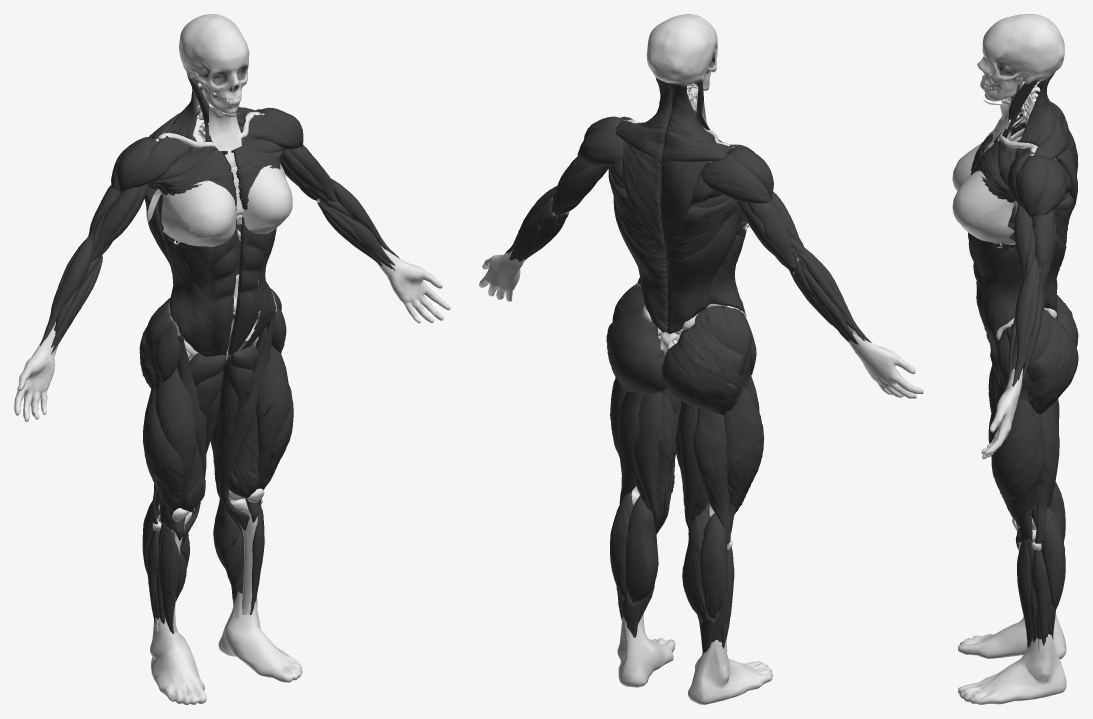
Rendered from corpo-f-1.glb.
The picture shows the model from 3 angles, left to right: view 1: azimuth 30°, elevation 25°; view 2: azimuth 150°, elevation 25°; view 3: azimuth 270°, elevation 25°; orthographic projection.
Parts seen in each view (by area): view 1: pele, deco, quad_reto_femoral, obliquos, mama_peito_medial, osso, adutores, quad_vasto_lateral, peito_medial, antebraco_flexores, abdomen_supra, ombro_frontal (+15 smaller); view 2: pele, gluteo_maximo, panturrilha_gastro, isquio_semitendineo, dorsal_inferior, trapezio_inferior, isquio_biceps_femoral, osso, dorsal_superior, quad_vasto_lateral, ombro_posterior, antebraco_extensores (+11 smaller); view 3: pele, osso, quad_vasto_lateral, deco, obliquos, gluteo_maximo, mama_peito_medial, panturrilha_gastro, isquio_biceps_femoral, ombro_lateral, mama_peito_inferior, trapezio_superior (+22 smaller).
Part boxes in pixels (x1,y1,x2,y2): pele: [14, 107, 450, 704]; deco: [147, 74, 275, 633]; quad_reto_femoral: [155, 326, 289, 540]; obliquos: [163, 228, 276, 356]; mama_peito_medial: [168, 165, 292, 238]; osso: [179, 14, 249, 114]; adutores: [183, 340, 259, 545]; quad_vasto_lateral: [143, 384, 293, 531]; peito_medial: [149, 145, 284, 210]; antebraco_flexores: [51, 199, 394, 354]; abdomen_supra: [212, 216, 268, 297]; ombro_frontal: [130, 114, 299, 188]; pele: [479, 88, 923, 704]; gluteo_maximo: [606, 304, 744, 415]; panturrilha_gastro: [610, 491, 727, 619]; isquio_semitendineo: [634, 391, 708, 530]; dorsal_inferior: [619, 229, 731, 333]; trapezio_inferior: [623, 141, 709, 250]; isquio_biceps_femoral: [618, 391, 730, 544]; osso: [646, 14, 717, 90]; dorsal_superior: [608, 166, 742, 257]; quad_vasto_lateral: [610, 377, 764, 513]; ombro_posterior: [577, 126, 771, 203]; antebraco_extensores: [508, 191, 864, 344]; pele: [958, 97, 1066, 704]; osso: [977, 14, 1064, 101]; quad_vasto_lateral: [991, 399, 1045, 543]; deco: [993, 79, 1055, 647]; obliquos: [970, 222, 1022, 352]; gluteo_maximo: [1027, 295, 1078, 414]; mama_peito_medial: [952, 130, 1003, 226]; panturrilha_gastro: [1041, 481, 1065, 611]; isquio_biceps_femoral: [1031, 398, 1059, 544]; ombro_lateral: [1016, 155, 1048, 217]; mama_peito_inferior: [960, 199, 1017, 248]; trapezio_superior: [1019, 71, 1058, 146].
Bounding box in the file's own units: 1.15 × 1.65 × 0.2867.
1 material, 1 textured.
